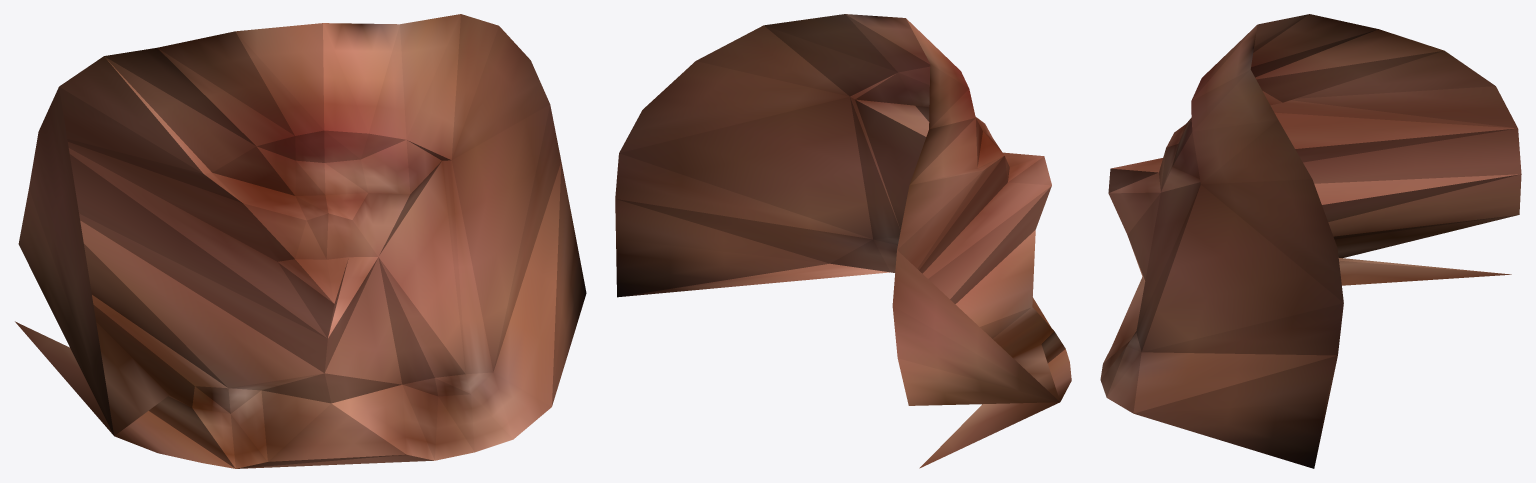
The model's file is fake_43239.obj.
3 views of the same model, side by side, from view 1: azimuth 30°, elevation 25°; view 2: azimuth 150°, elevation 25°; view 3: azimuth 270°, elevation 25° (orthographic). The views are drawn at different scales.
Bounding box in the file's own units: 127 × 94 × 109.
